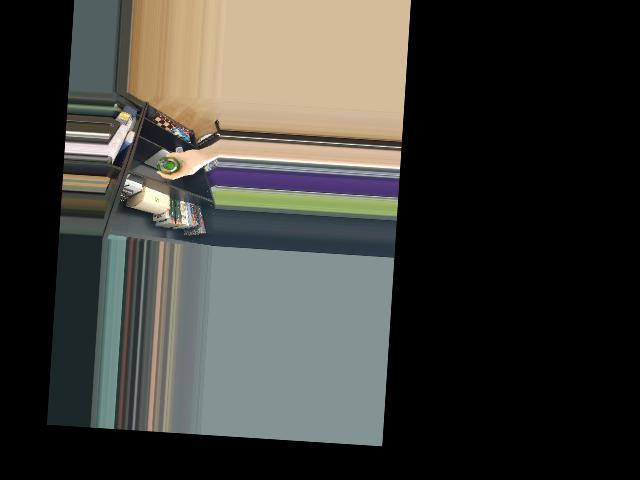beer: (157, 155, 180, 174)
